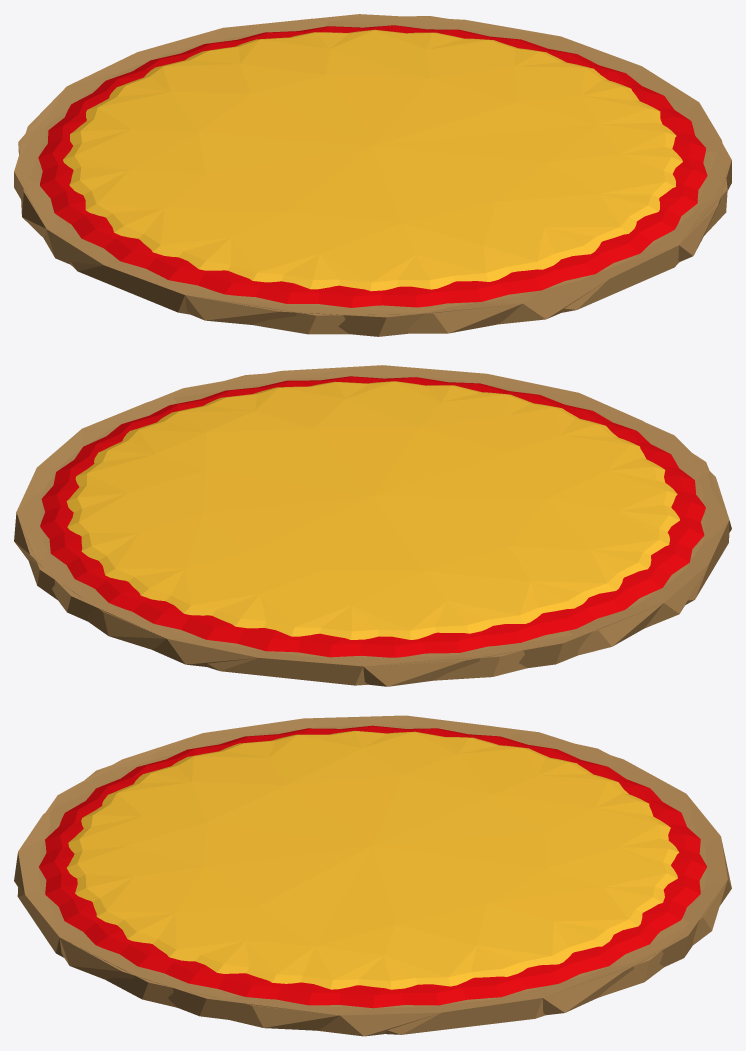
Rendered from modelo2.glb.
The picture shows the model from 3 angles, top to bottom: view 1: azimuth 30°, elevation 25°; view 2: azimuth 150°, elevation 25°; view 3: azimuth 270°, elevation 25°; orthographic projection.
Visible parts, largest first — view 1: pizza_queso_cocinada; view 2: pizza_queso_cocinada; view 3: pizza_queso_cocinada.
Boxes of the visible parts, bbox=[...] form: pizza_queso_cocinada: bbox=[14, 14, 731, 336]; pizza_queso_cocinada: bbox=[14, 365, 731, 686]; pizza_queso_cocinada: bbox=[14, 715, 731, 1036].
Bounding box in the file's own units: 2.02 × 0.121 × 2.02.
